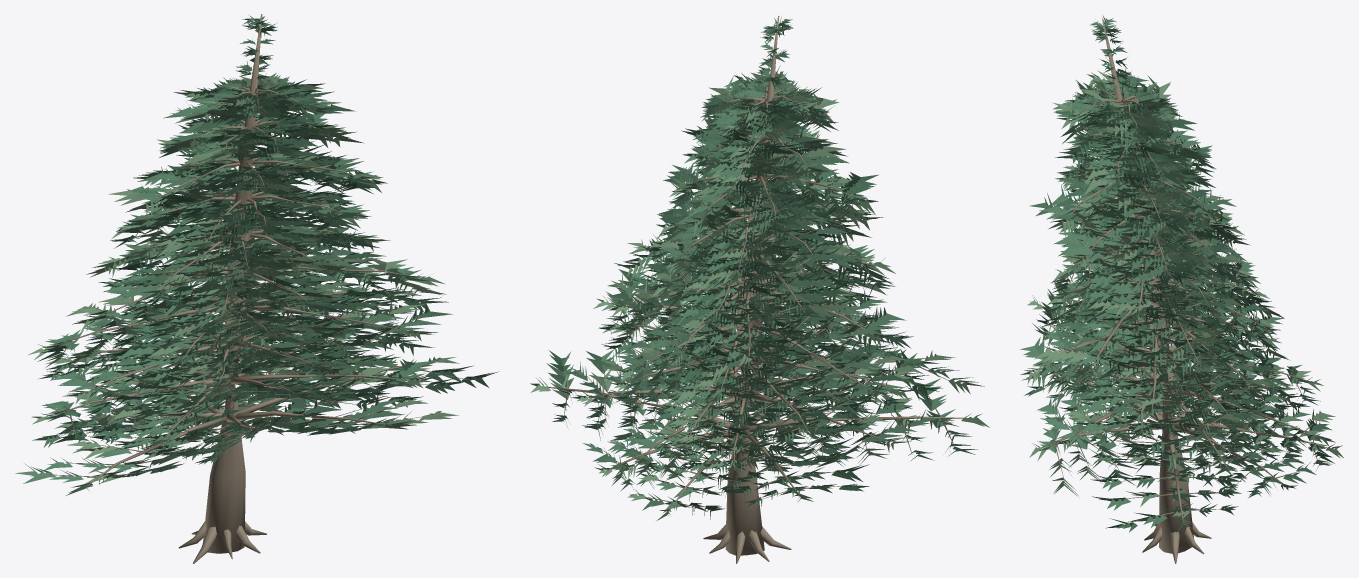
Rendered from cedar_0.glb.
3 renders of one model, left to right at view 1: azimuth 30°, elevation 25°; view 2: azimuth 150°, elevation 25°; view 3: azimuth 270°, elevation 25°, orthographic. The views are drawn at different scales.
Parts seen in each view (by area): view 1: tree_conifer_ConiferLeaf, tree_conifer_ConiferLeafLight, tree_conifer_ConiferLeafDark, tree_conifer_ConiferBark; view 2: tree_conifer_ConiferLeaf, tree_conifer_ConiferLeafLight, tree_conifer_ConiferLeafDark, tree_conifer_ConiferBark; view 3: tree_conifer_ConiferLeaf, tree_conifer_ConiferLeafLight, tree_conifer_ConiferLeafDark, tree_conifer_ConiferBark.
Boxes of the visible parts, bbox=[...] form: tree_conifer_ConiferLeaf: bbox=[15, 15, 473, 484]; tree_conifer_ConiferLeafLight: bbox=[28, 73, 459, 495]; tree_conifer_ConiferLeafDark: bbox=[37, 79, 498, 464]; tree_conifer_ConiferBark: bbox=[50, 14, 468, 563]; tree_conifer_ConiferLeaf: bbox=[546, 17, 977, 512]; tree_conifer_ConiferLeafLight: bbox=[530, 65, 989, 520]; tree_conifer_ConiferLeafDark: bbox=[549, 72, 942, 519]; tree_conifer_ConiferBark: bbox=[545, 16, 969, 563]; tree_conifer_ConiferLeaf: bbox=[1020, 16, 1327, 527]; tree_conifer_ConiferLeafLight: bbox=[1020, 70, 1343, 534]; tree_conifer_ConiferLeafDark: bbox=[1024, 80, 1334, 532]; tree_conifer_ConiferBark: bbox=[1035, 18, 1327, 563].
Size of the model in its own units: 12.71 by 14.15 by 7.93.
